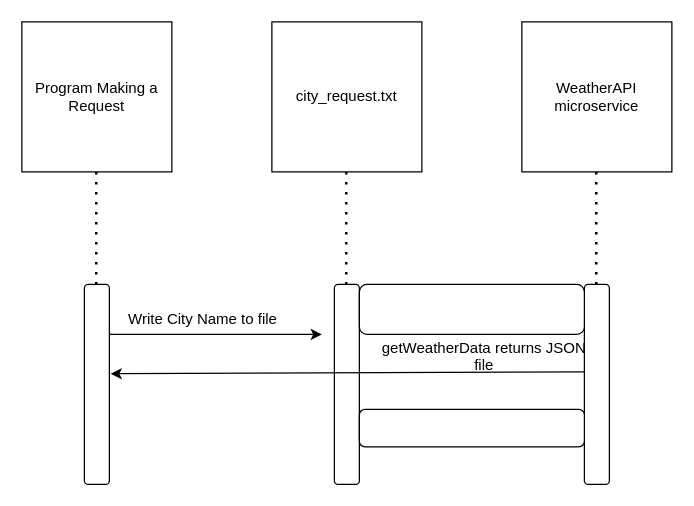
The diagram is 694 pixels wide and 506 high, and some of its shapes have lost their labels. Here are the shapes that lost their labels. From the top down, the centre of each, then its label:
At point 471,308: "LOOP: Read File".
At point 471,427: "if File not found, continue loop".
